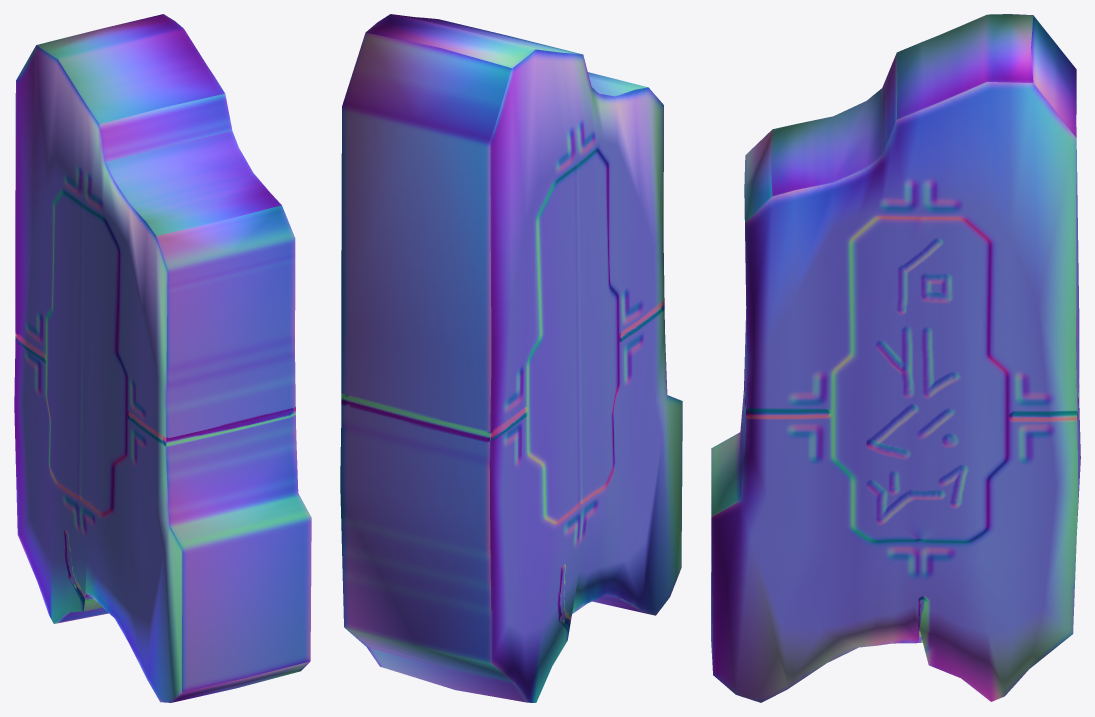
Rendered from RAI-DecorationRune.fbx.
The picture shows the model from 3 angles, left to right: view 1: azimuth 30°, elevation 25°; view 2: azimuth 150°, elevation 25°; view 3: azimuth 270°, elevation 25°; orthographic projection. The views are drawn at different scales.
Parts seen in each view (by area): view 1: RetopoGroup1; view 2: RetopoGroup1; view 3: RetopoGroup1.
Boxes of the visible parts, x1,y1,x2,y2 form: RetopoGroup1: (14, 14, 311, 702); RetopoGroup1: (340, 14, 682, 702); RetopoGroup1: (711, 14, 1080, 702).
Bounding box in the file's own units: 16.16 × 59.98 × 32.29.
